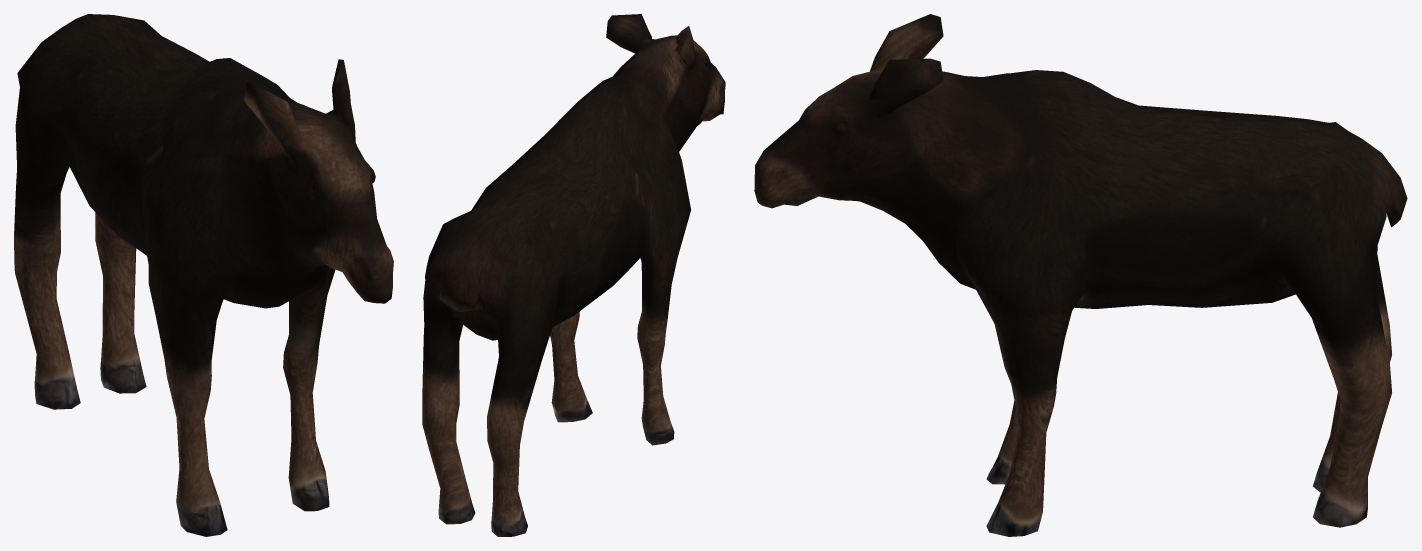
Rendered from dog.FBX.
3 renders of one model, left to right at view 1: azimuth 30°, elevation 25°; view 2: azimuth 150°, elevation 25°; view 3: azimuth 270°, elevation 25°, orthographic. The views are drawn at different scales.
Parts seen in each view (by area): view 1: Plane003; view 2: Plane003; view 3: Plane003.
Part boxes in pixels (<box>): Plane003: <box>14,14,393,536</box>; Plane003: <box>422,14,725,536</box>; Plane003: <box>754,14,1407,536</box>.
Size of the model in its own units: 97.83 by 251 by 318.
